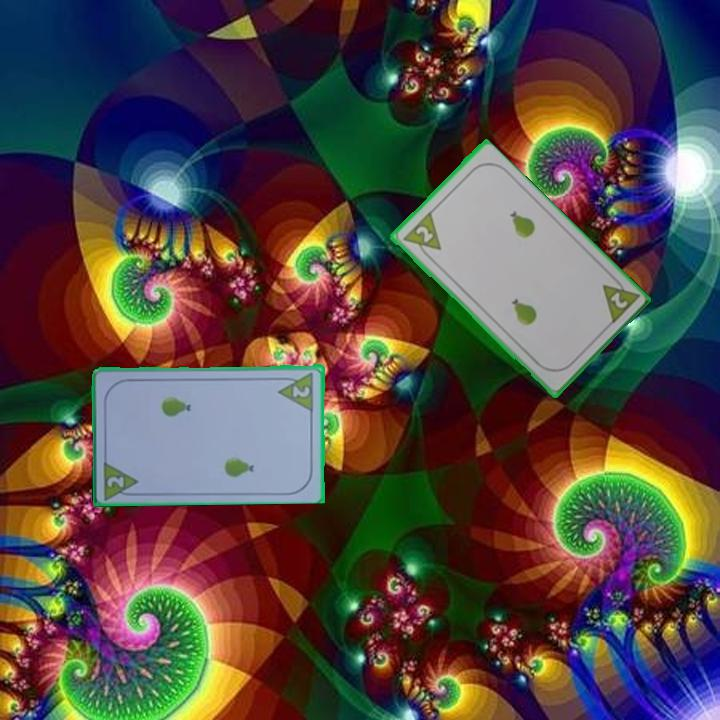2p: (398, 209, 444, 263), (598, 271, 641, 327), (100, 456, 142, 501), (275, 368, 316, 412)
